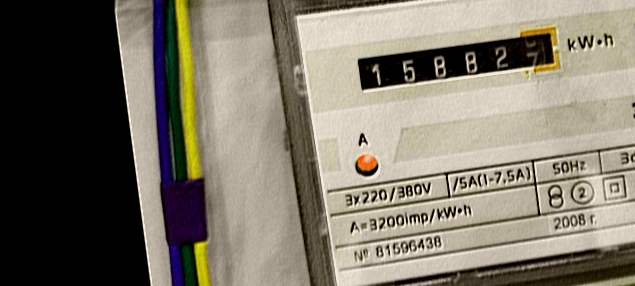1: (371, 61, 387, 88)
2: (494, 44, 513, 71)
5: (402, 57, 419, 85)
7: (526, 49, 543, 68)
8: (433, 53, 452, 80), (465, 49, 483, 76)
screen: (348, 20, 573, 106)
